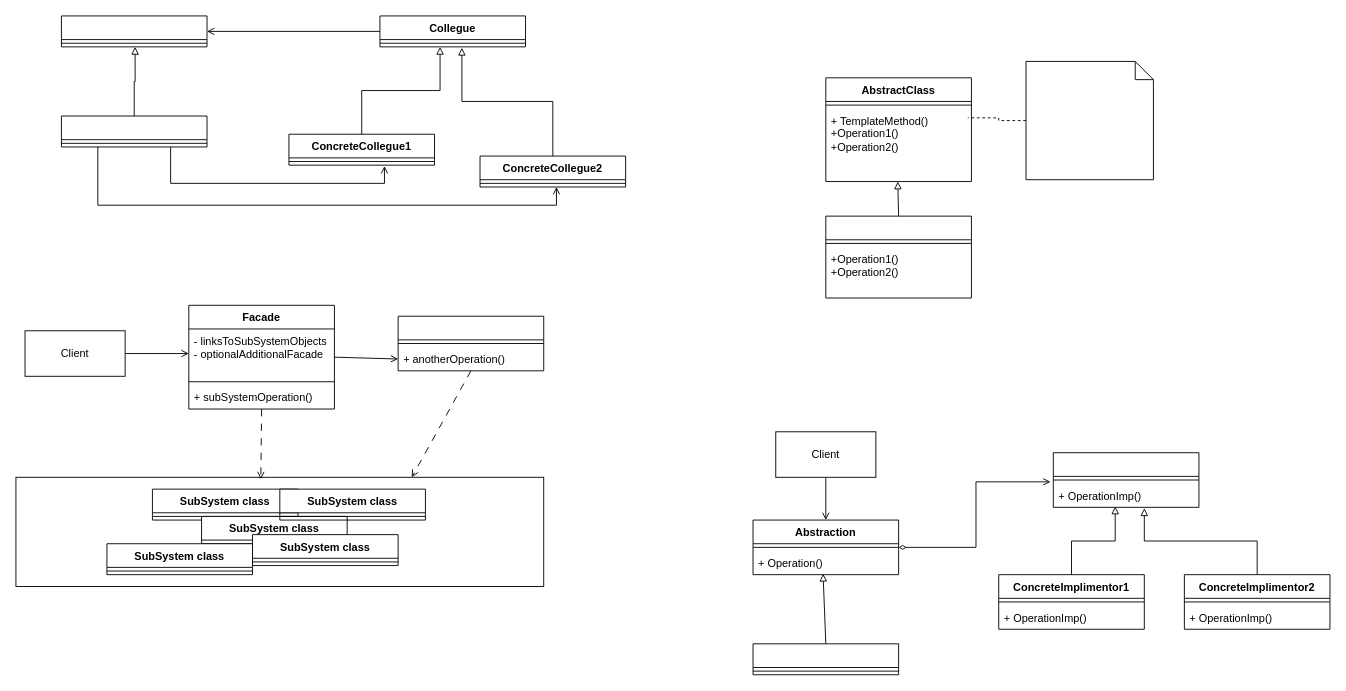
Image size: 1346x691. Some labels were removed from this diagram. The box of each missing label's shape, as (x1, y1, x2, y2) in pixels:
AdditionakFacade: (397, 315, 544, 371)
ConcreteClass: (825, 215, 971, 298)
Implimentor: (1052, 452, 1199, 507)
Mediatore: (61, 15, 207, 47)
Product A: (61, 115, 207, 147)
RefinedAbstraction: (752, 643, 899, 675)
TemplateMethod(){ Operation1() Operation2() }: (1025, 61, 1153, 180)
